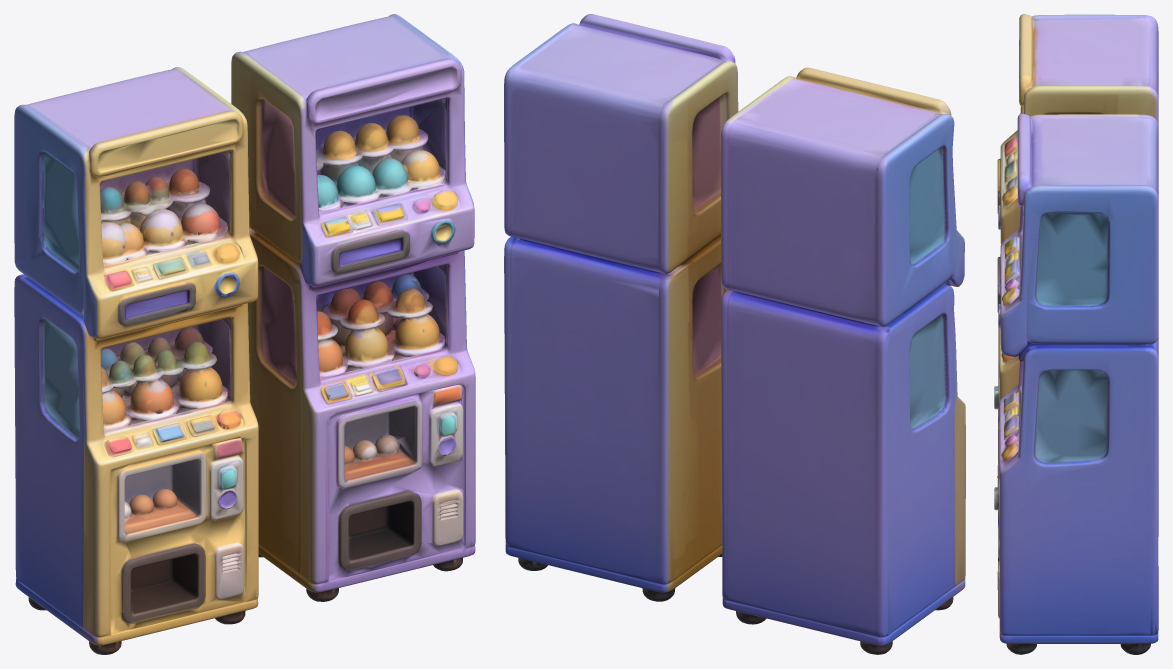
File: gachapon-1.glb
3 renders of one model, left to right at view 1: azimuth 30°, elevation 25°; view 2: azimuth 150°, elevation 25°; view 3: azimuth 270°, elevation 25°, orthographic. The views are drawn at different scales.
Visible parts, largest first — view 1: node_0; view 2: node_0; view 3: node_0.
Boxes of the visible parts, left/top/right/bottom form: node_0: left=14, top=14, right=475, bottom=654; node_0: left=504, top=14, right=965, bottom=654; node_0: left=994, top=14, right=1158, bottom=654.
Size of the model in its own units: 0.7445 by 0.9431 by 0.2945.
Materials: 1 (1 with a texture image).
